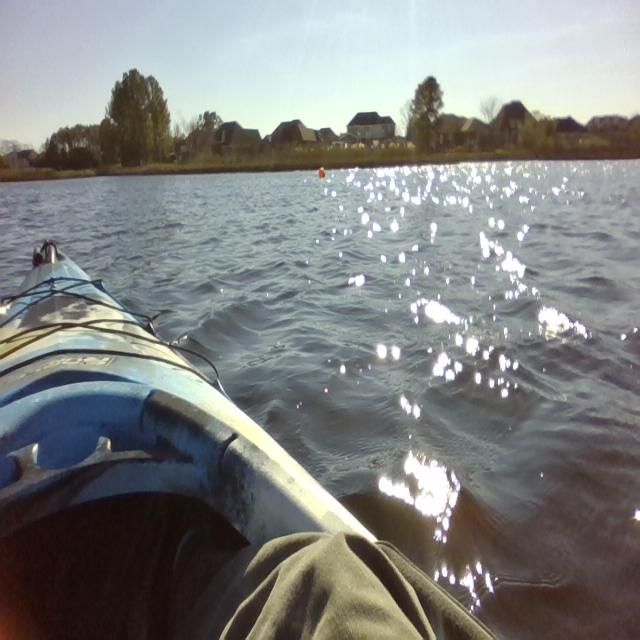Buoy: (314, 165, 330, 183)
